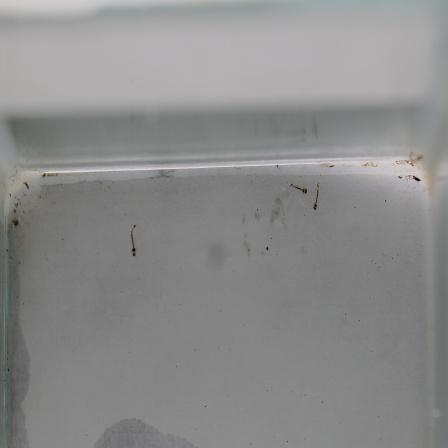Jentik-Nyamuk: (285, 176, 323, 215), (124, 219, 140, 262)
